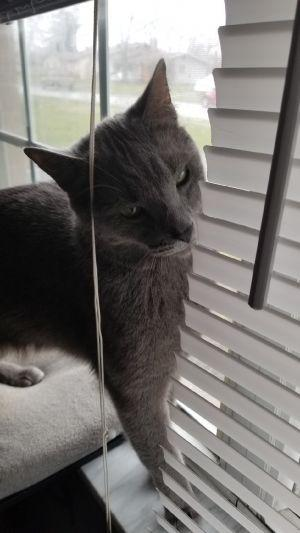rblue: (18, 58, 222, 251)
